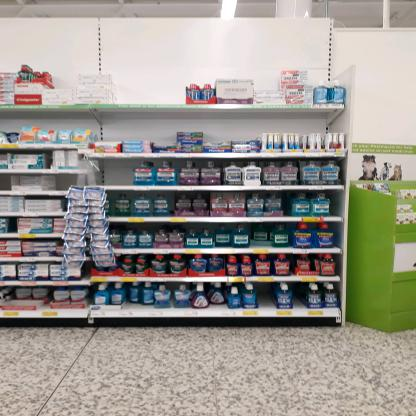Void: (97, 161, 134, 185), (259, 282, 275, 308), (290, 282, 307, 306), (205, 132, 231, 142), (56, 174, 73, 188), (152, 132, 174, 142), (0, 175, 12, 190)
